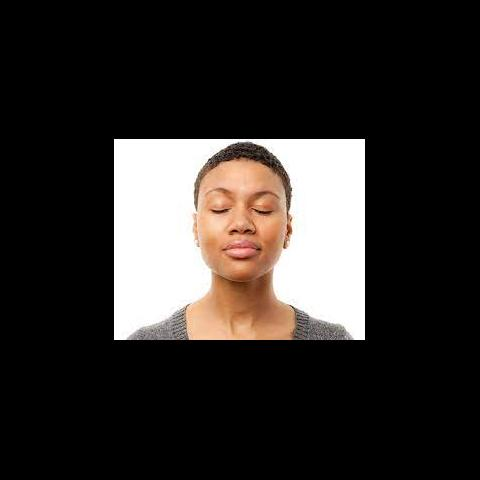closed: (203, 187, 282, 221)
